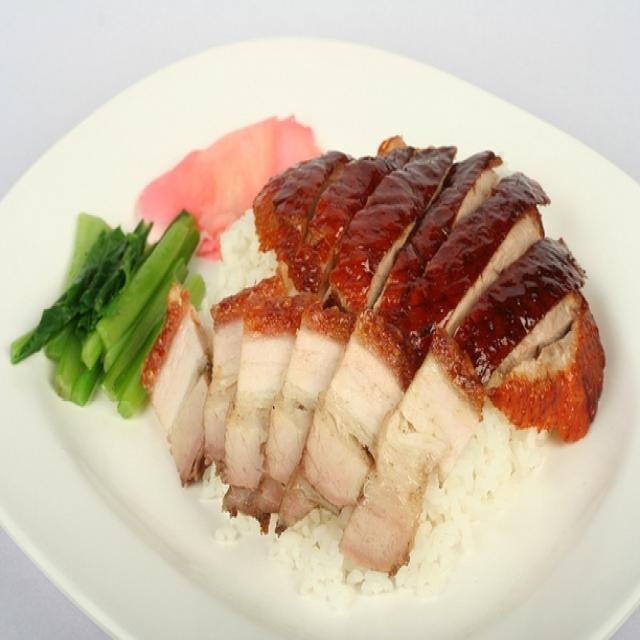米饭主食: (69, 66, 616, 618)
